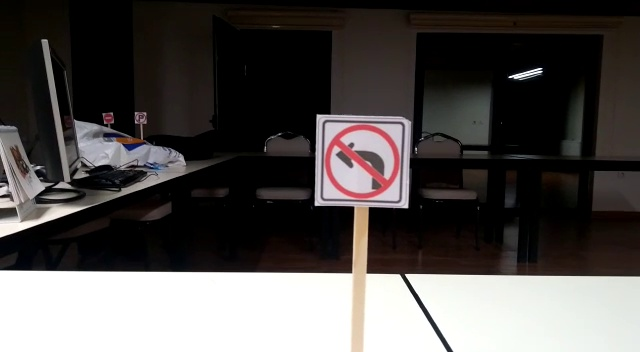sola_donulmez: (319, 120, 405, 199)
